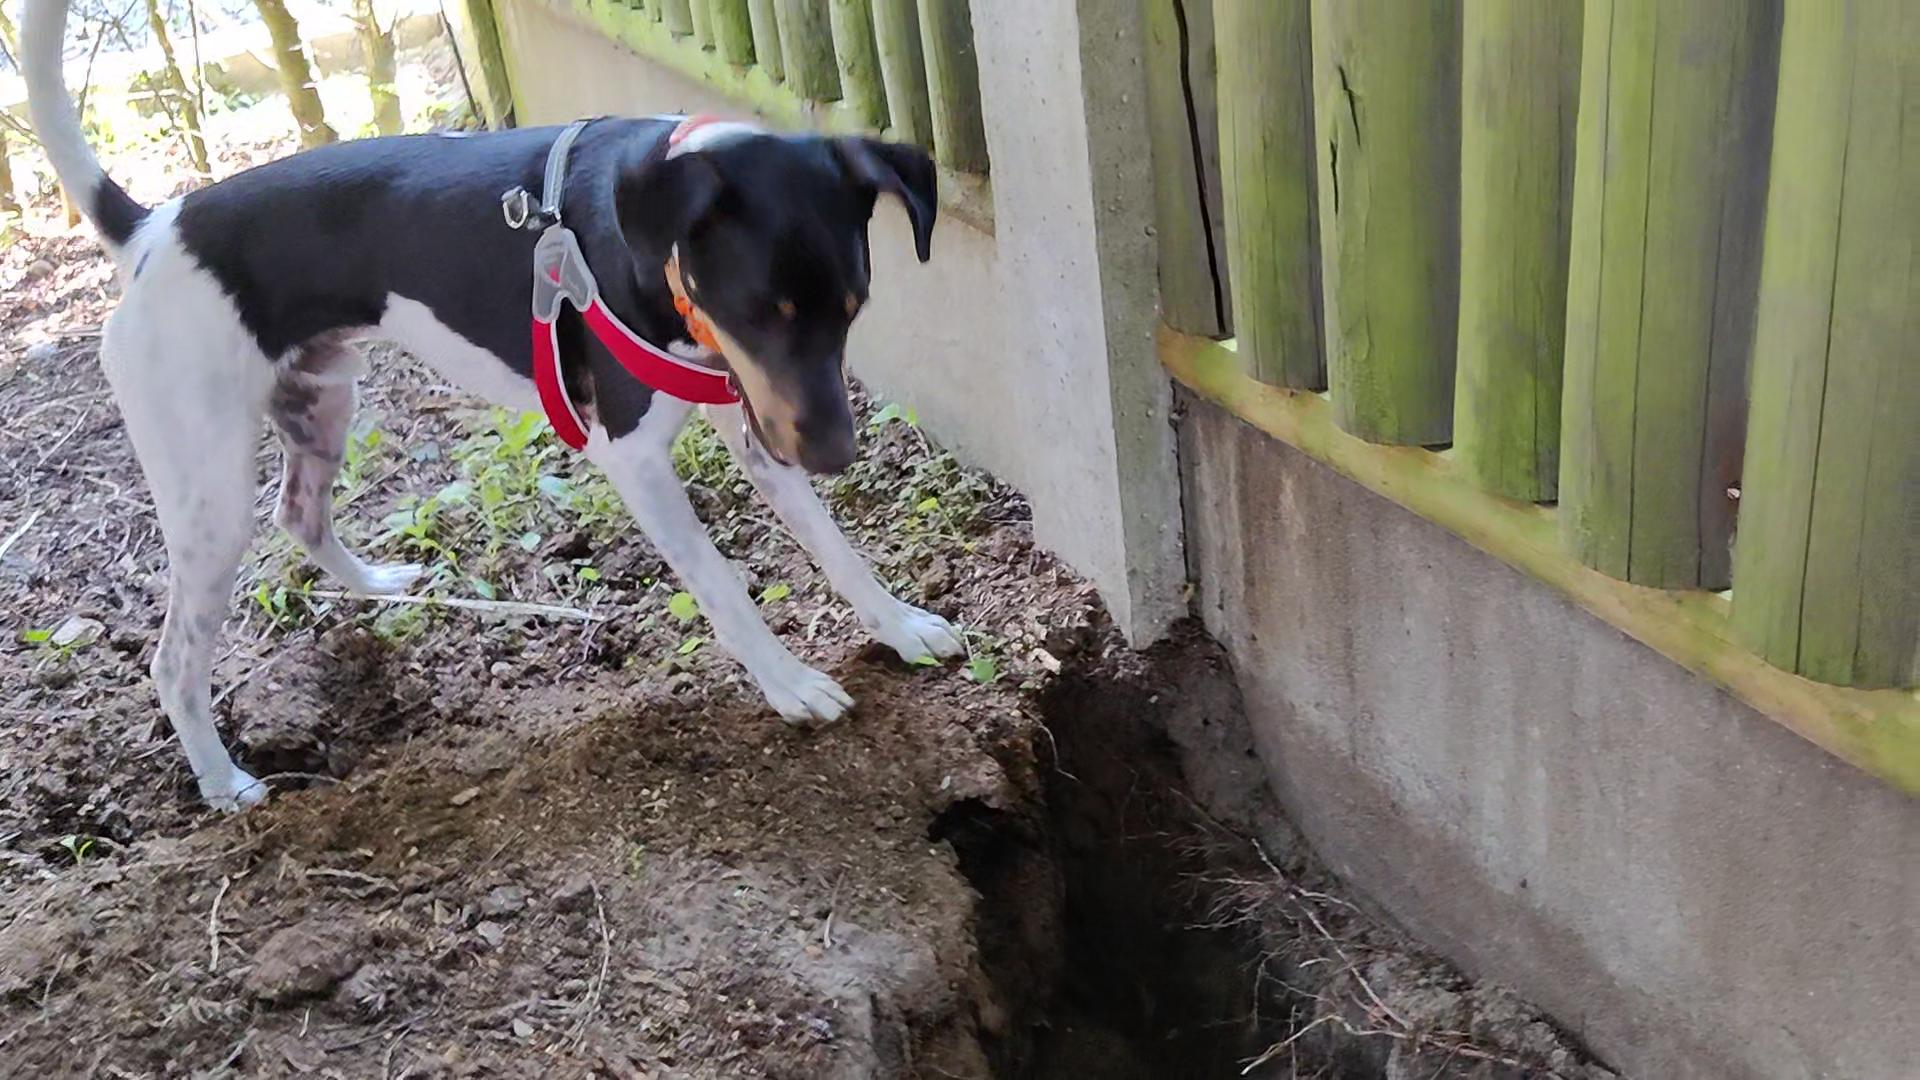Dog: (11, 0, 978, 822)
